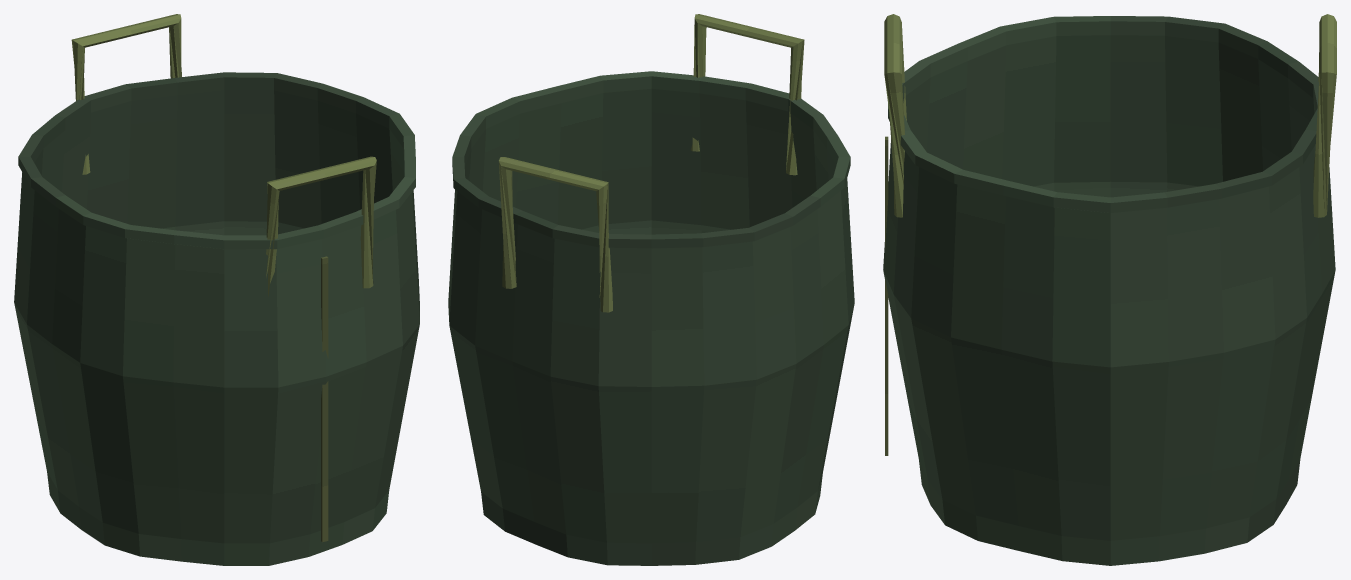
File: vessel-growbag.glb
3 renders of one model, left to right at view 1: azimuth 30°, elevation 25°; view 2: azimuth 150°, elevation 25°; view 3: azimuth 270°, elevation 25°, orthographic. The views are drawn at different scales.
Visible parts, largest first — view 1: vessel-growbag/complete-inner-outer-shell-with-drainage, vessel-growbag/complete-fabric-loop--1, vessel-growbag/complete-fabric-loop-1, vessel-growbag/visible-vertical-bag-seam; view 2: vessel-growbag/complete-inner-outer-shell-with-drainage, vessel-growbag/complete-fabric-loop-1, vessel-growbag/complete-fabric-loop--1; view 3: vessel-growbag/complete-inner-outer-shell-with-drainage, vessel-growbag/complete-fabric-loop-1, vessel-growbag/complete-fabric-loop--1, vessel-growbag/visible-vertical-bag-seam.
Boxes of the visible parts, <box> form: vessel-growbag/complete-inner-outer-shell-with-drainage: <box>14,72,419,565</box>; vessel-growbag/complete-fabric-loop--1: <box>266,156,376,296</box>; vessel-growbag/complete-fabric-loop-1: <box>71,14,181,174</box>; vessel-growbag/visible-vertical-bag-seam: <box>321,256,328,542</box>; vessel-growbag/complete-inner-outer-shell-with-drainage: <box>448,71,854,565</box>; vessel-growbag/complete-fabric-loop-1: <box>498,157,612,312</box>; vessel-growbag/complete-fabric-loop--1: <box>691,14,804,175</box>; vessel-growbag/complete-inner-outer-shell-with-drainage: <box>883,16,1335,565</box>; vessel-growbag/complete-fabric-loop-1: <box>1313,14,1336,217</box>; vessel-growbag/complete-fabric-loop--1: <box>884,14,906,217</box>; vessel-growbag/visible-vertical-bag-seam: <box>885,136,888,455</box>.
Size of the model in its own units: 0.414 by 0.446 by 0.4151.
Materials: 2 (2 with a texture image).
